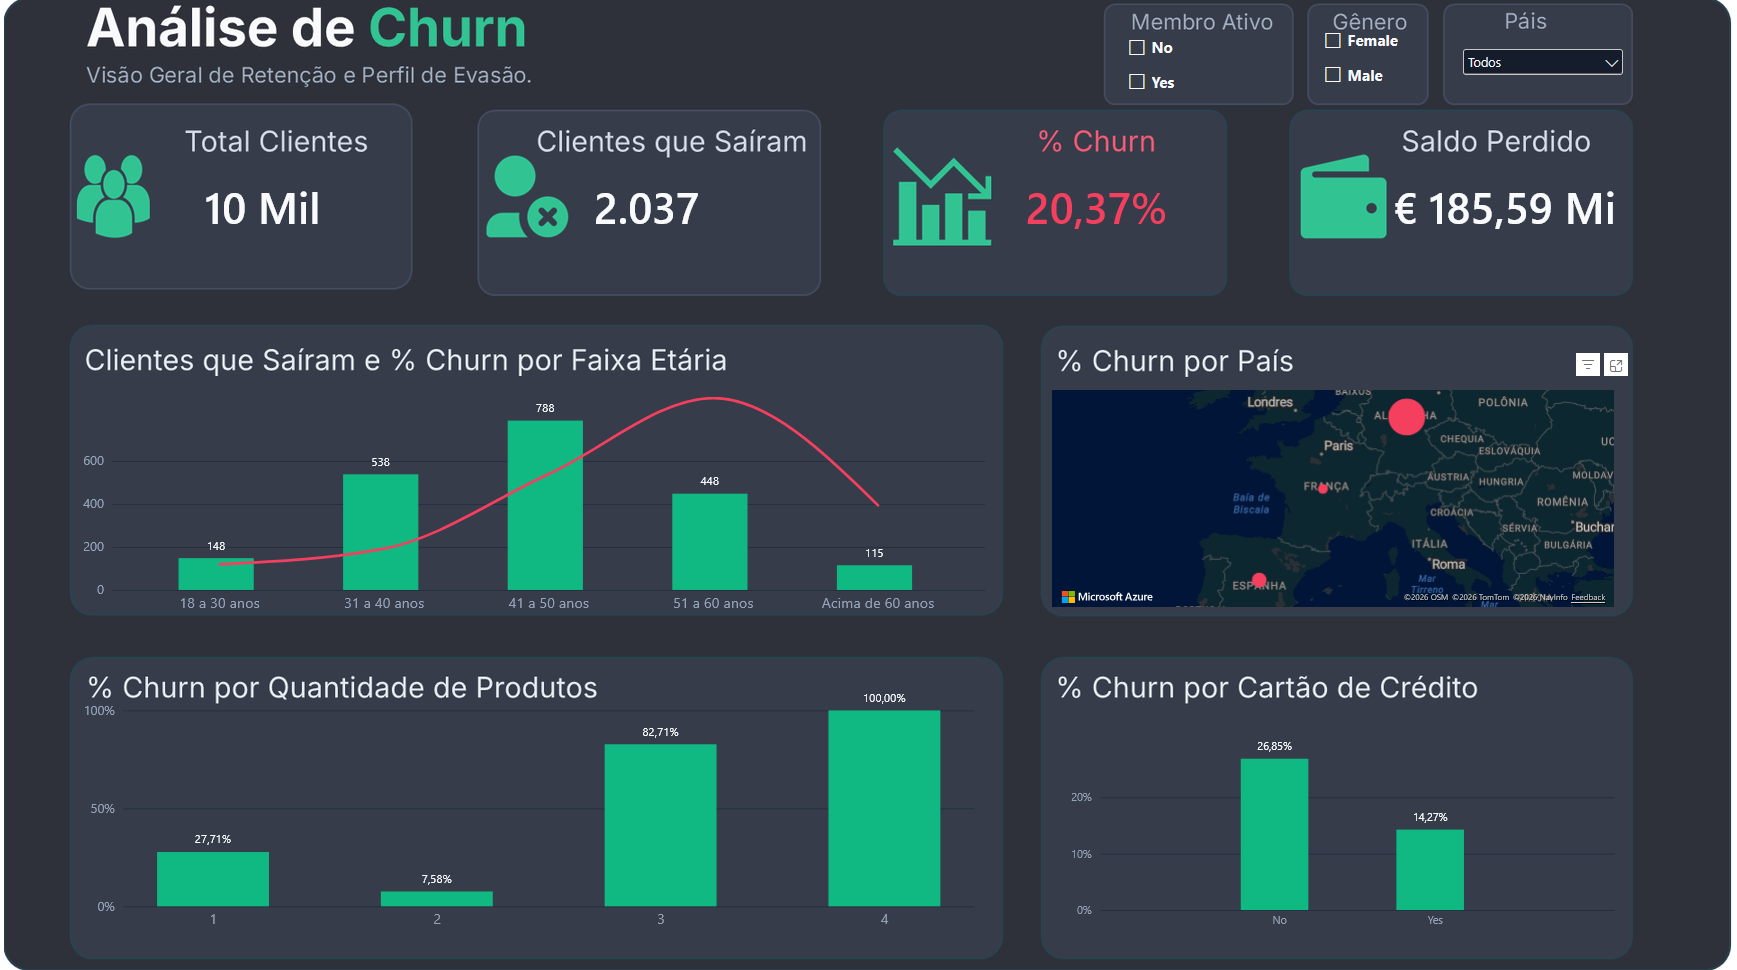

Layout of this report page (visuals, bound fields, positions):
{"tool":"powerbi","page":{"name":"Página 1","canvas":[1920,1080],"ordinal":0},"visuals":[{"type":"card","fields":{"Values":["Medidas.Total Clientes"]},"box":[97.3,127.4,380.1,203.5],"z":0},{"type":"card","fields":{"Values":["Medidas.Clientes que sairam"]},"box":[524.7,127.4,380.1,203.5],"z":1000},{"type":"card","fields":{"Values":["Medidas.% Churn"]},"box":[1024.7,127.4,380.1,203.5],"z":2000},{"type":"card","fields":{"Values":["Medidas.Saldo Perdido"]},"box":[1478.1,127.4,380.1,203.5],"z":3000},{"type":"azureMap","fields":{"Category":["Customer_Info.Geography"],"Size":["Medidas.% Churn"]},"box":[1149.3,419.2,656.2,271.2],"z":4000},{"type":"slicer","title":"Geography","fields":{"Values":["Customer_Info.Geography"]},"box":[1616,48.5,188.5,44.4],"z":5000},{"type":"slicer","fields":{"Values":["Customer_Info.Gender"]},"box":[1460.3,26,139.7,132.9],"z":6000},{"type":"slicer","fields":{"Values":["Account_Info.IsActiveMember"]},"box":[1242.5,32.9,175.3,79.5],"z":7000},{"type":"lineClusteredColumnComboChart","fields":{"Category":["Customer_Info.Faixa Etária"],"Y":["Medidas.Clientes que sairam"],"Y2":["Medidas.% Churn"]},"box":[72.6,419.2,1034.2,282.2],"z":8000},{"type":"columnChart","fields":{"Category":["Account_Info.NumOfProducts"],"Y":["Medidas.% Churn"]},"box":[72.6,738.4,1021.9,313.7],"z":9000},{"type":"columnChart","title":"% Churn por IsActiveMember and HasCrCard","fields":{"Category":["Account_Info.HasCrCard"],"Y":["Medidas.% Churn"]},"box":[1169.9,795.9,635.6,256.2],"z":10000}]}

Visuals, with their boxes in screenshot pixels (x1, y1, x2, y2), scaled from the page's 1920x1080 canvas onto the 1737x970 screenshot:
card - Medidas.Total Clientes: [left=88, top=114, right=432, bottom=297]
card - Medidas.Clientes que sairam: [left=475, top=114, right=819, bottom=297]
card - Medidas.% Churn: [left=927, top=114, right=1271, bottom=297]
card - Medidas.Saldo Perdido: [left=1337, top=114, right=1681, bottom=297]
azureMap - Customer_Info.Geography x Medidas.% Churn: [left=1040, top=377, right=1633, bottom=620]
"Geography" slicer: [left=1462, top=44, right=1633, bottom=83]
slicer - Customer_Info.Gender: [left=1321, top=23, right=1448, bottom=143]
slicer - Account_Info.IsActiveMember: [left=1124, top=30, right=1283, bottom=101]
lineClusteredColumnComboChart - Customer_Info.Faixa Etária x Medidas.Clientes que sairam: [left=66, top=377, right=1001, bottom=630]
columnChart - Account_Info.NumOfProducts x Medidas.% Churn: [left=66, top=663, right=990, bottom=945]
"% Churn por IsActiveMember and HasCrCard" columnChart: [left=1058, top=715, right=1633, bottom=945]
